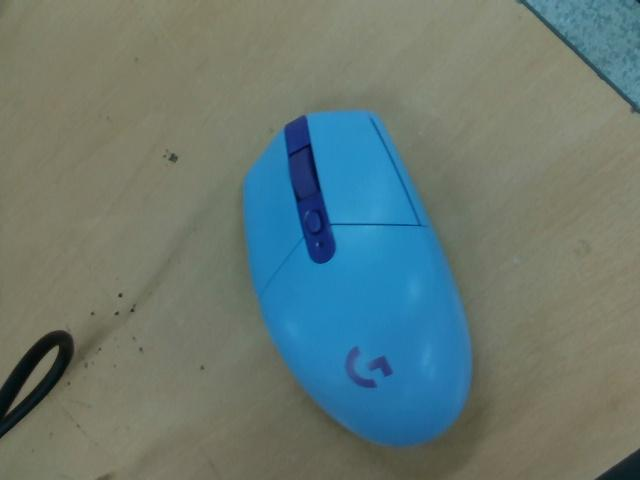mouse: (240, 110, 475, 450)
